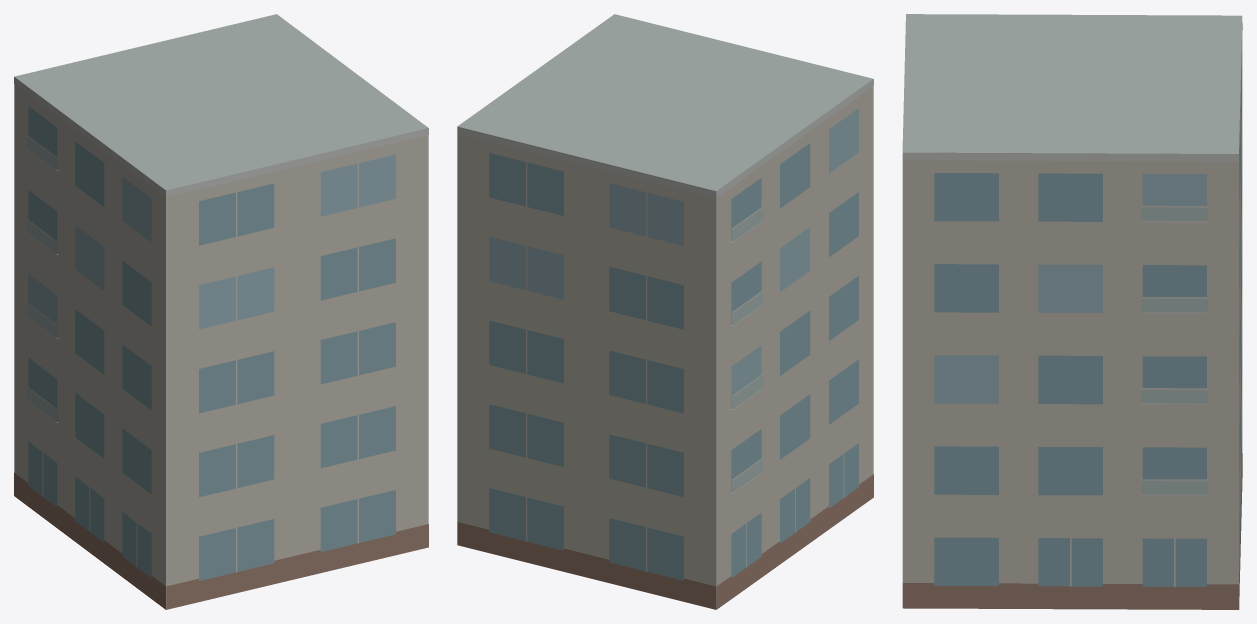
The model's file is survey-upis-32747998.glb.
The picture shows the model from 3 angles, left to right: view 1: azimuth 30°, elevation 25°; view 2: azimuth 150°, elevation 25°; view 3: azimuth 270°, elevation 25°; orthographic projection. The views are drawn at different scales.
Visible parts, largest first — view 1: survey-upis-32747998.tmp; view 2: survey-upis-32747998.tmp; view 3: survey-upis-32747998.tmp.
Boxes of the visible parts, x1,y1,x2,y2 form: survey-upis-32747998.tmp: [14, 14, 428, 609]; survey-upis-32747998.tmp: [457, 14, 873, 609]; survey-upis-32747998.tmp: [902, 14, 1242, 609].
Bounding box in the file's own units: 9.65 × 14.6 × 9.88.
